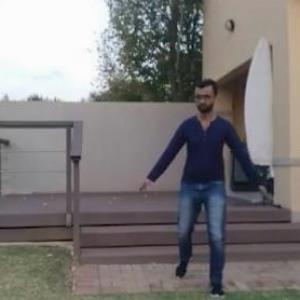land: (138, 64, 285, 298)
